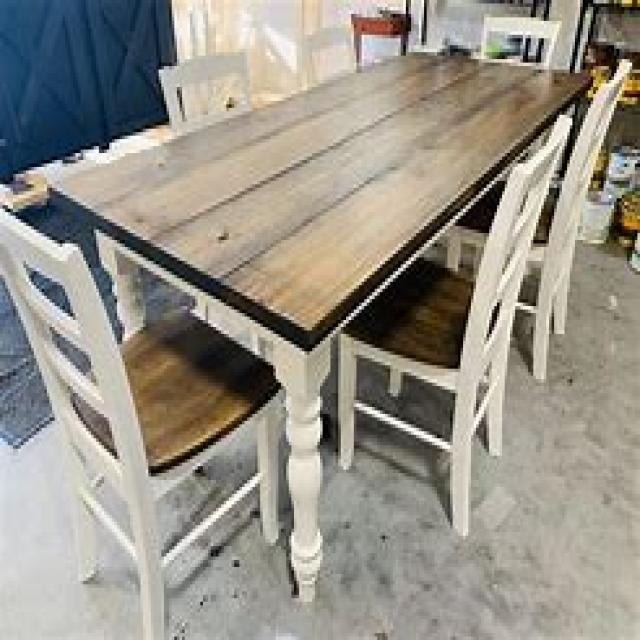chair: (0, 198, 284, 637), (336, 118, 570, 536), (442, 55, 632, 382), (156, 49, 252, 132), (479, 14, 562, 69), (349, 10, 411, 70)
table: (11, 45, 594, 598)
